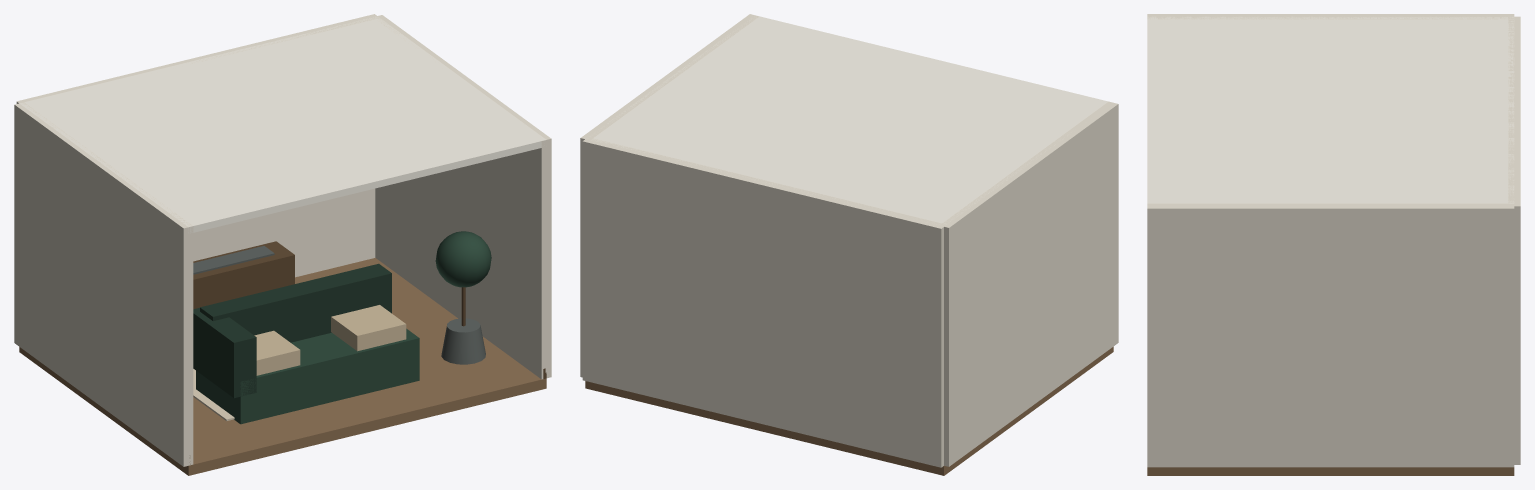
Rendered from living-room.glb.
The picture shows the model from 3 angles, left to right: view 1: azimuth 30°, elevation 25°; view 2: azimuth 150°, elevation 25°; view 3: azimuth 270°, elevation 25°; orthographic projection. The views are drawn at different scales.
Bounding box in the file's own units: 4.52 × 2.92 × 3.66.
